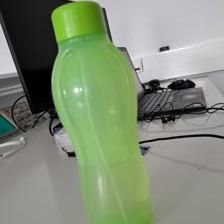bottle: (50, 2, 154, 223)
